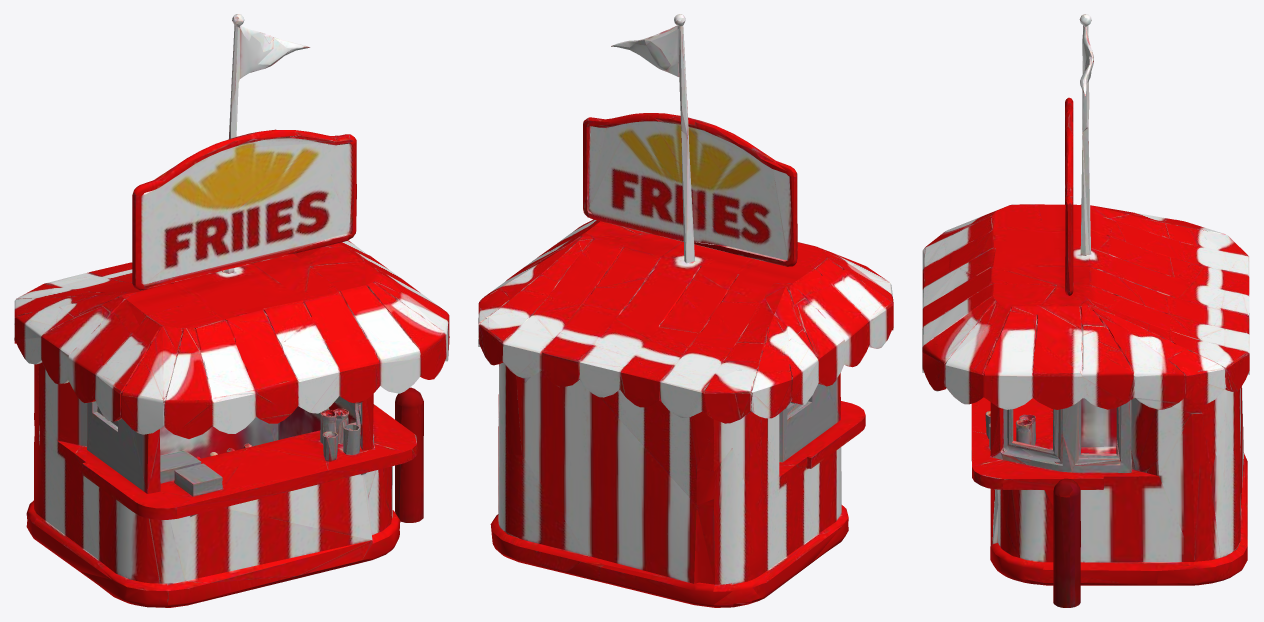
Rendered from kiosk.glb.
3 renders of one model, left to right at view 1: azimuth 30°, elevation 25°; view 2: azimuth 150°, elevation 25°; view 3: azimuth 270°, elevation 25°, orthographic. The views are drawn at different scales.
Bounding box in the file's own units: 1.28 × 1.9 × 1.1.
1 material, 1 textured.
